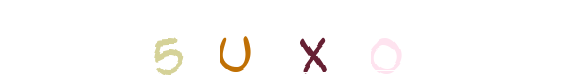5: (147, 0, 227, 80)
O: (273, 0, 353, 80)
U: (195, 0, 275, 80)
X: (251, 0, 331, 80)
